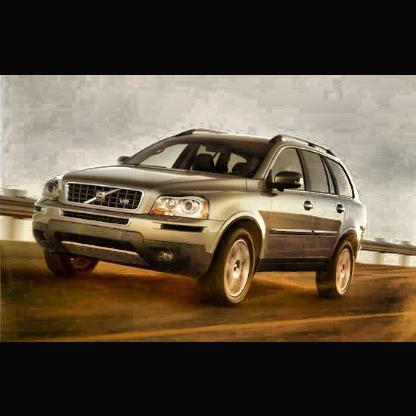Volvo XC90 SUV 2007: (32, 128, 370, 308)
